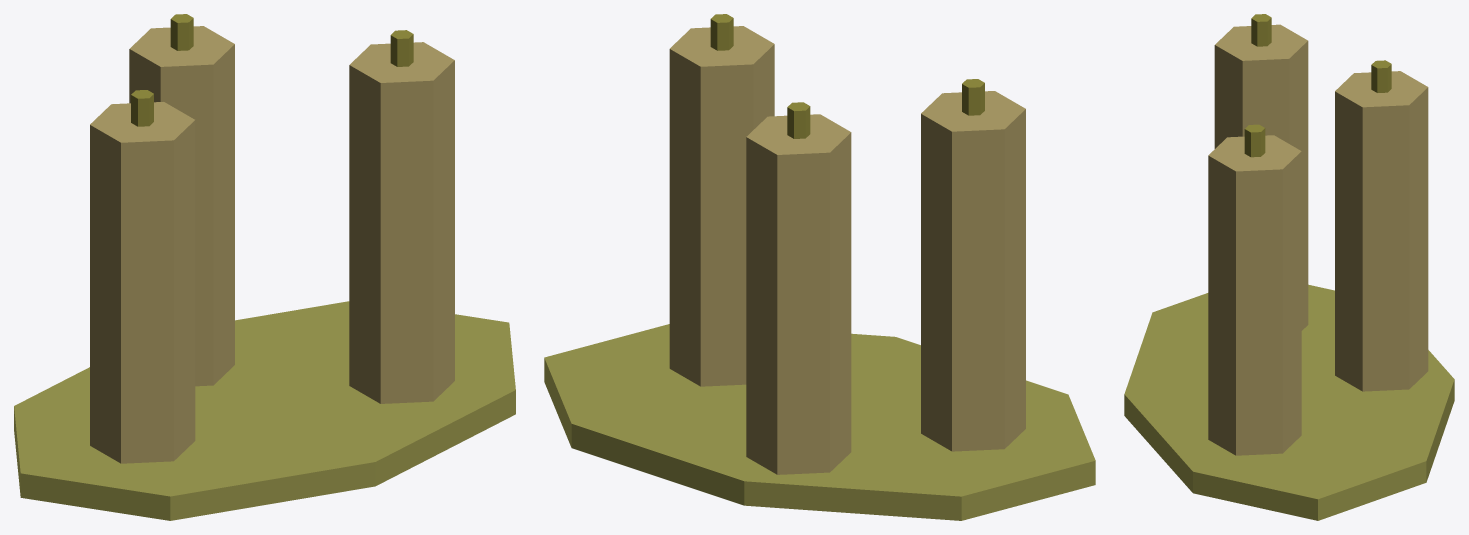
Rendered from CandleCollection3.fbx.
3 renders of one model, left to right at view 1: azimuth 30°, elevation 25°; view 2: azimuth 150°, elevation 25°; view 3: azimuth 270°, elevation 25°, orthographic. The views are drawn at different scales.
Parts seen in each view (by area): view 1: triple_candle; view 2: triple_candle; view 3: triple_candle.
Boxes of the visible parts, bbox=[...] form: triple_candle: bbox=[14, 14, 515, 520]; triple_candle: bbox=[544, 14, 1095, 520]; triple_candle: bbox=[1124, 14, 1454, 520].
Size of the model in its own units: 50.27 by 34.43 by 31.16.
